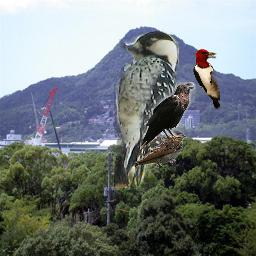Crow: (139, 82, 196, 147)
Swallow: (132, 130, 187, 170)
Woodpecker: (114, 30, 179, 190), (193, 49, 220, 109)
